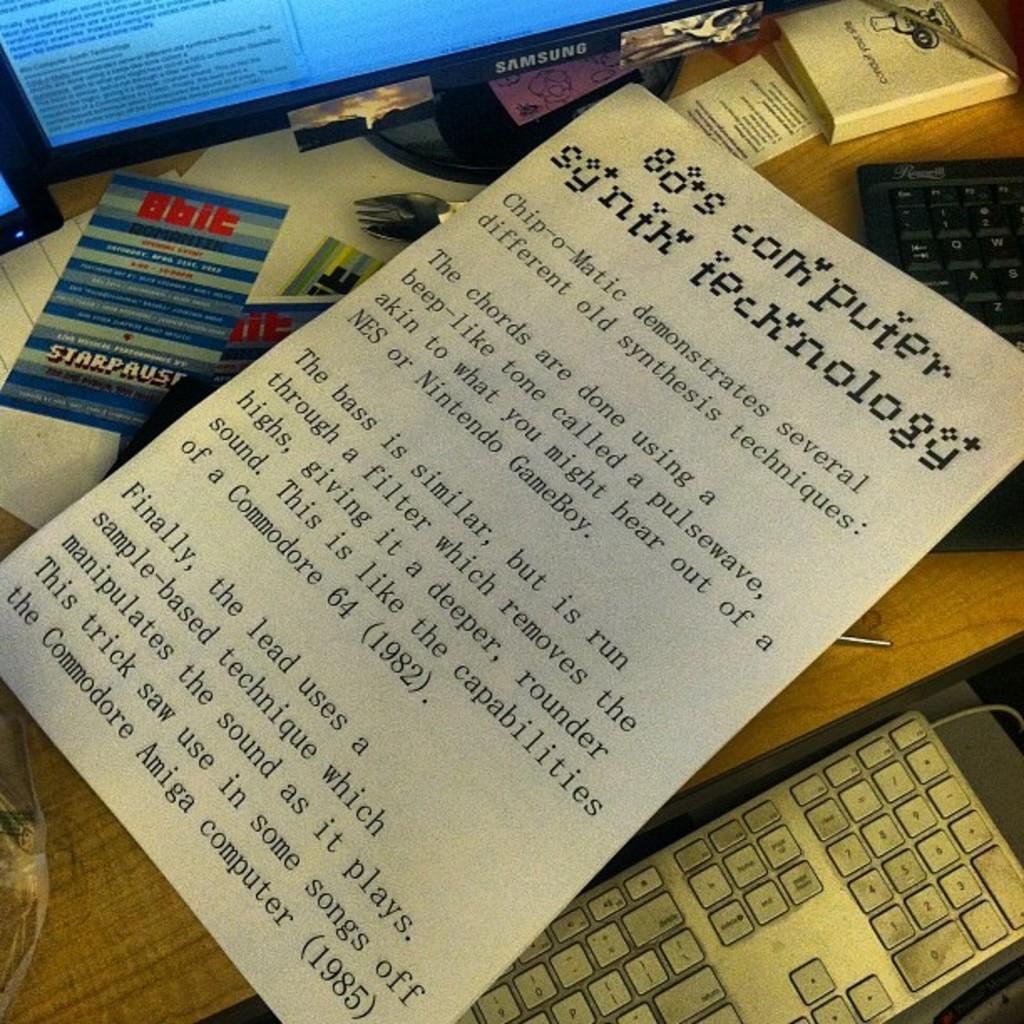Computer-keyboard: (460, 709, 1022, 1022)
